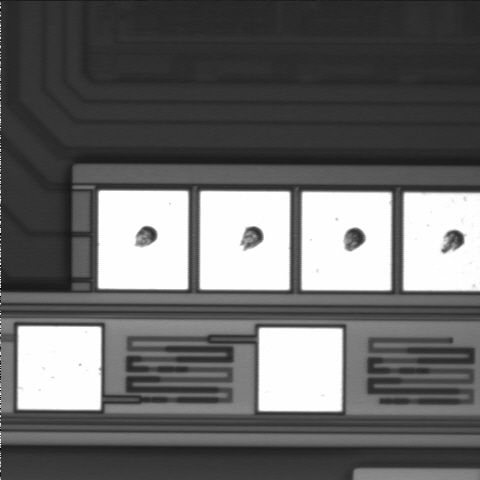pad: (200, 191, 290, 290), (98, 191, 188, 289), (302, 192, 391, 290), (18, 326, 101, 410), (259, 328, 342, 411)
